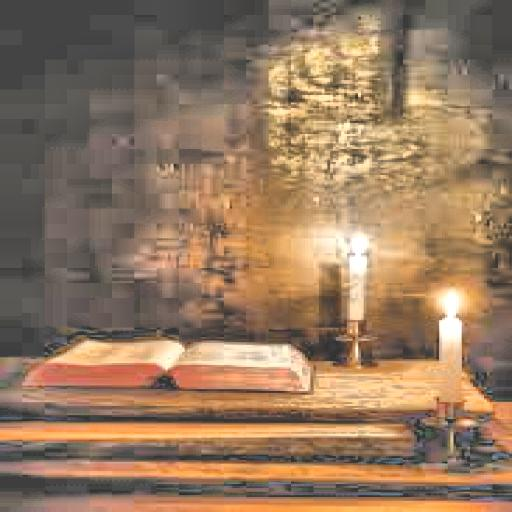fire: (436, 285, 468, 316), (339, 231, 372, 257)
